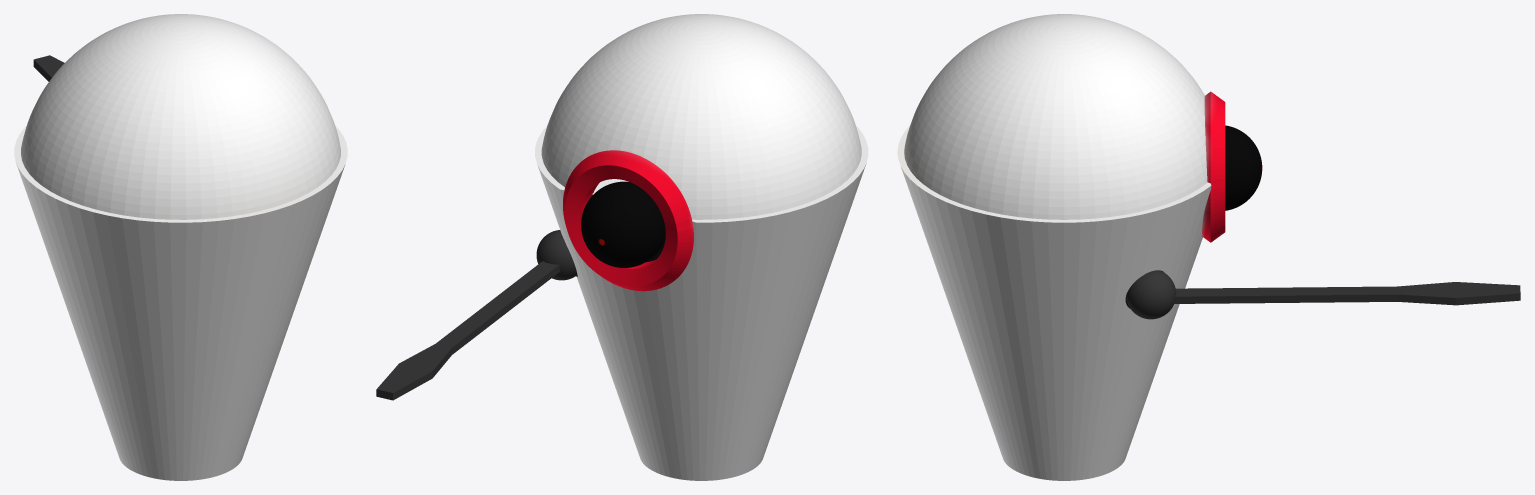
The model's file is Bobot 2.fbx.
3 renders of one model, left to right at view 1: azimuth 30°, elevation 25°; view 2: azimuth 150°, elevation 25°; view 3: azimuth 270°, elevation 25°, orthographic.
Parts seen in each view (by area): view 1: bot_body, arm; view 2: bot_body, arm, cam; view 3: bot_body, arm, cam.
Boxes of the visible parts, x1,y1,x2,y2 form: bot_body: [14, 14, 347, 480]; arm: [33, 55, 64, 81]; bot_body: [535, 14, 868, 480]; arm: [376, 230, 577, 400]; cam: [581, 181, 665, 267]; bot_body: [897, 14, 1225, 480]; arm: [1126, 270, 1520, 319]; cam: [1225, 125, 1262, 210].
Bounding box in the file's own units: 200 × 281 × 373.
